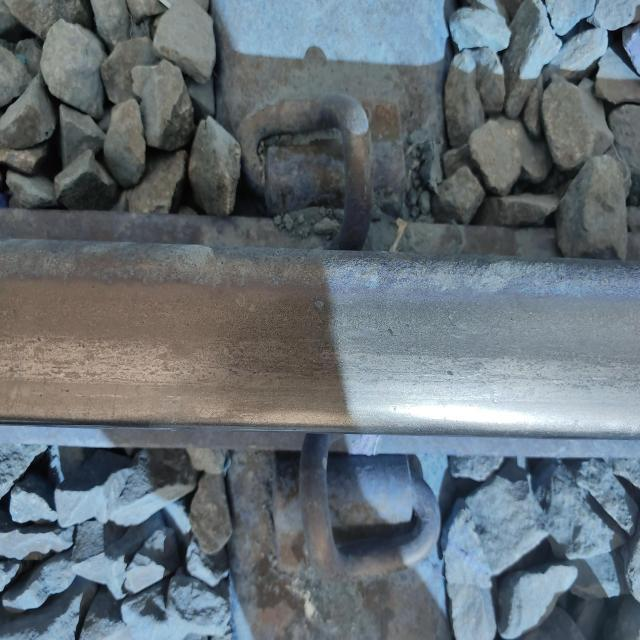Good Fasteners: (211, 71, 445, 265), (250, 441, 452, 623)
